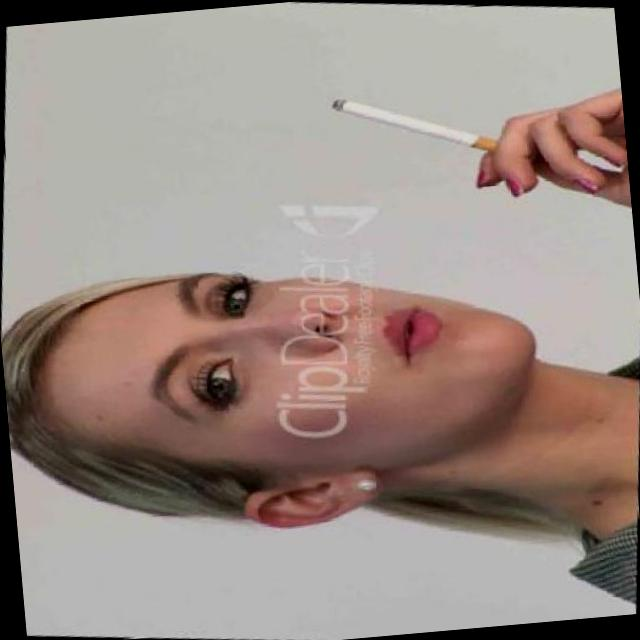smoke: (321, 78, 510, 168)
